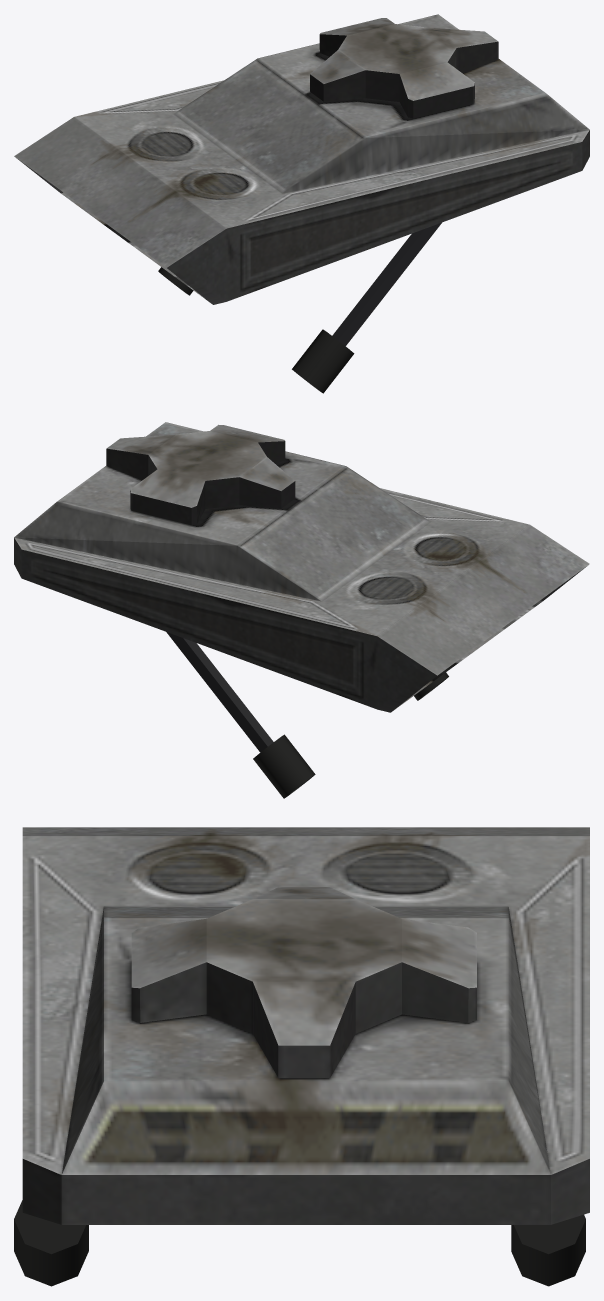
Rendered from OBJ_Turret_Pad.FBX.
3 views of the same model, one above another, from view 1: azimuth 30°, elevation 25°; view 2: azimuth 150°, elevation 25°; view 3: azimuth 270°, elevation 25° (orthographic). The views are drawn at different scales.
Parts seen in each view (by area): view 1: OBJ_Turret_Pad; view 2: OBJ_Turret_Pad; view 3: OBJ_Turret_Pad.
Part boxes in pixels (x1=…): OBJ_Turret_Pad: x1=14, y1=14, x2=589, y2=393; OBJ_Turret_Pad: x1=14, y1=422, x2=589, y2=798; OBJ_Turret_Pad: x1=14, y1=827, x2=589, y2=1286.
Bounding box in the file's own units: 2.39 × 1.35 × 1.47.
Materials: 1 (1 with a texture image).
